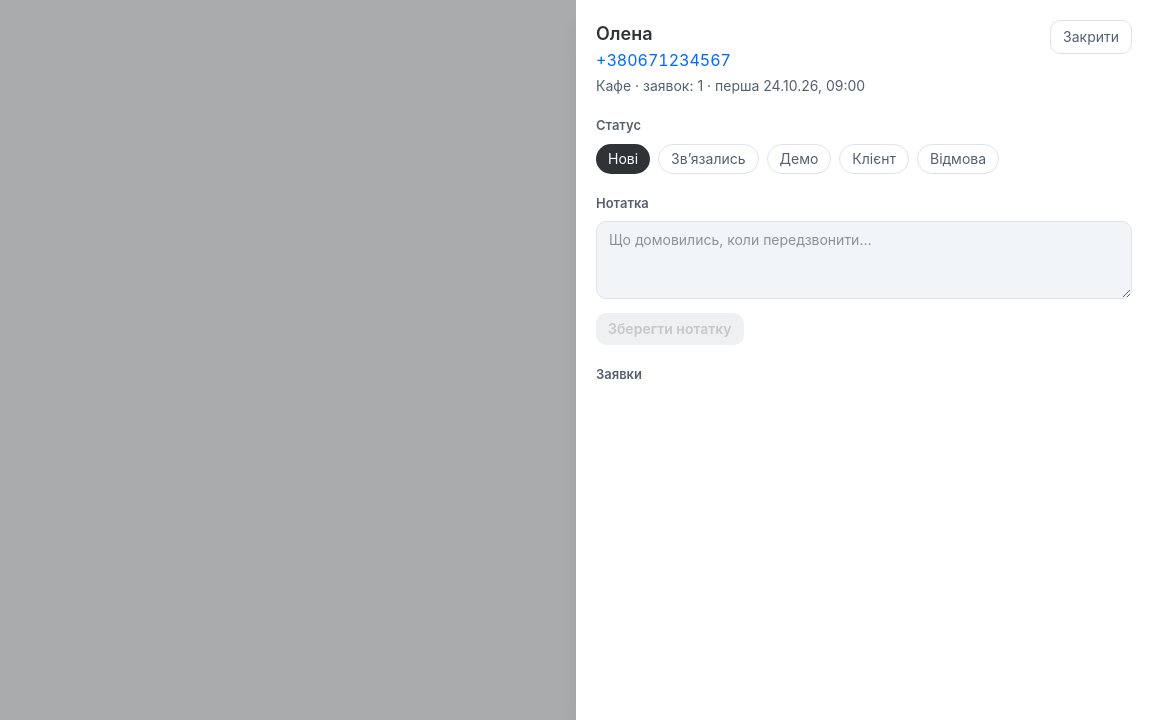
LeadCard › keeps the note being typed when a status change comes back
The image size is (1152, 720).
Click the button "Зв’язались" at (708, 158), box [658, 144, 758, 174]
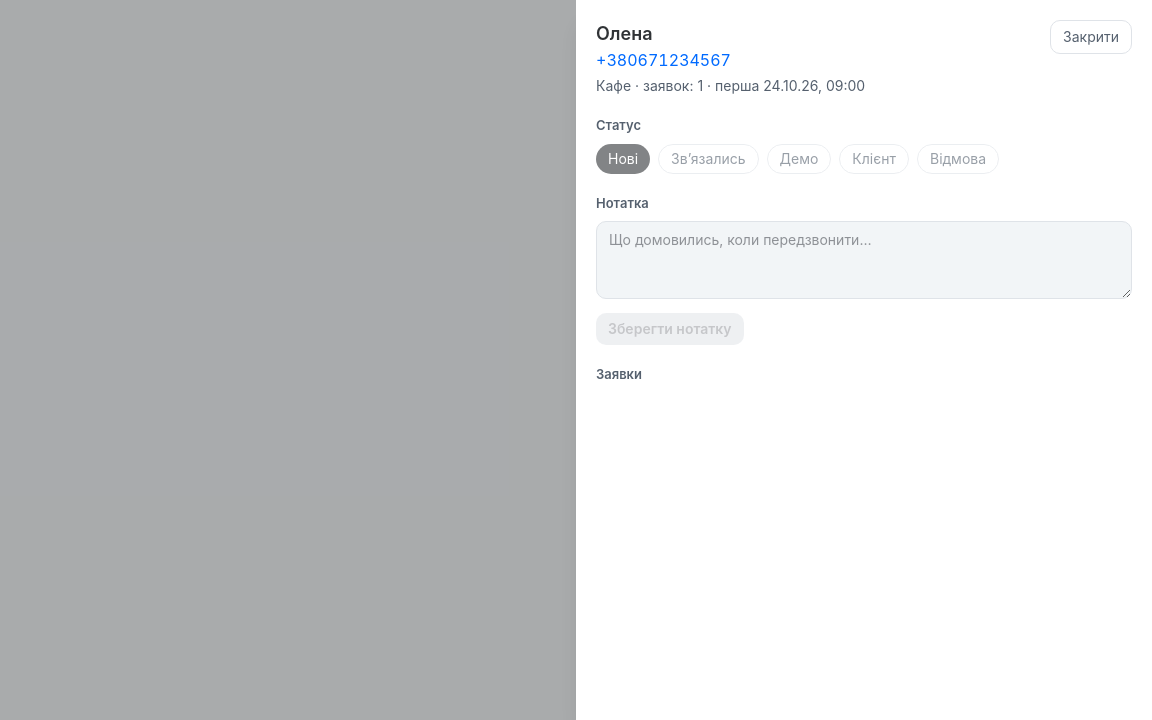
Type "Передзвонити в понеділок" into the text box named "Нотатка" at (864, 260), box [596, 221, 1132, 299]
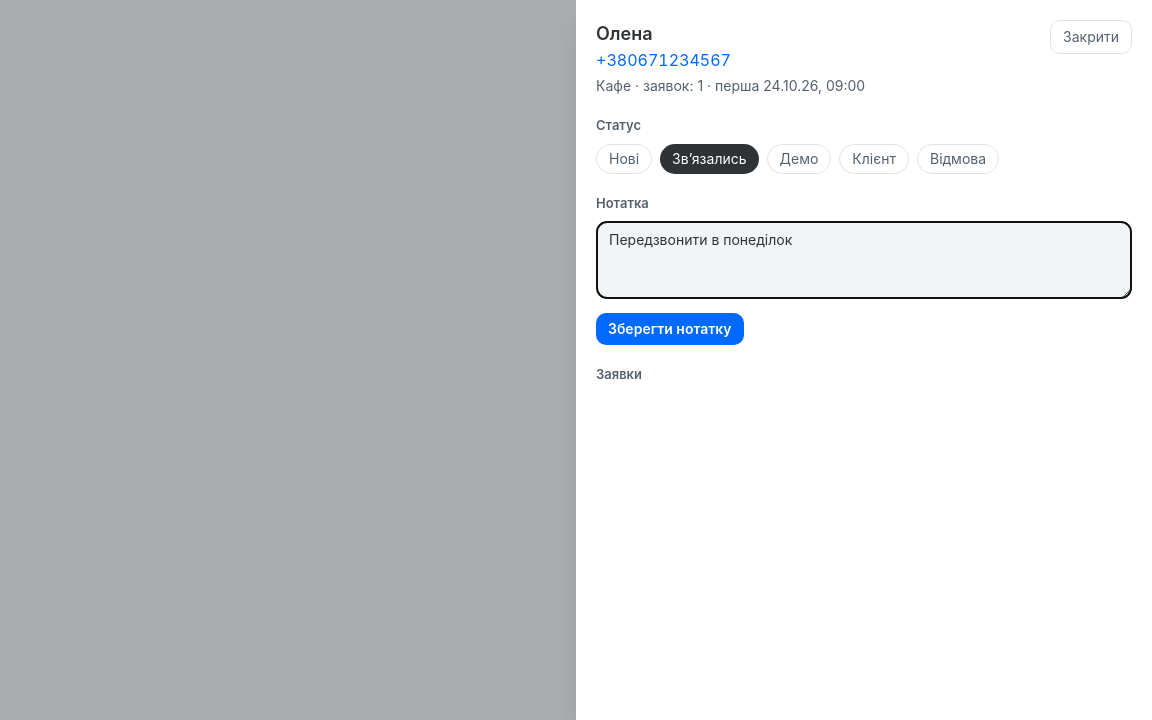
Click the button "Зберегти нотатку" at (670, 329), box [596, 313, 744, 345]
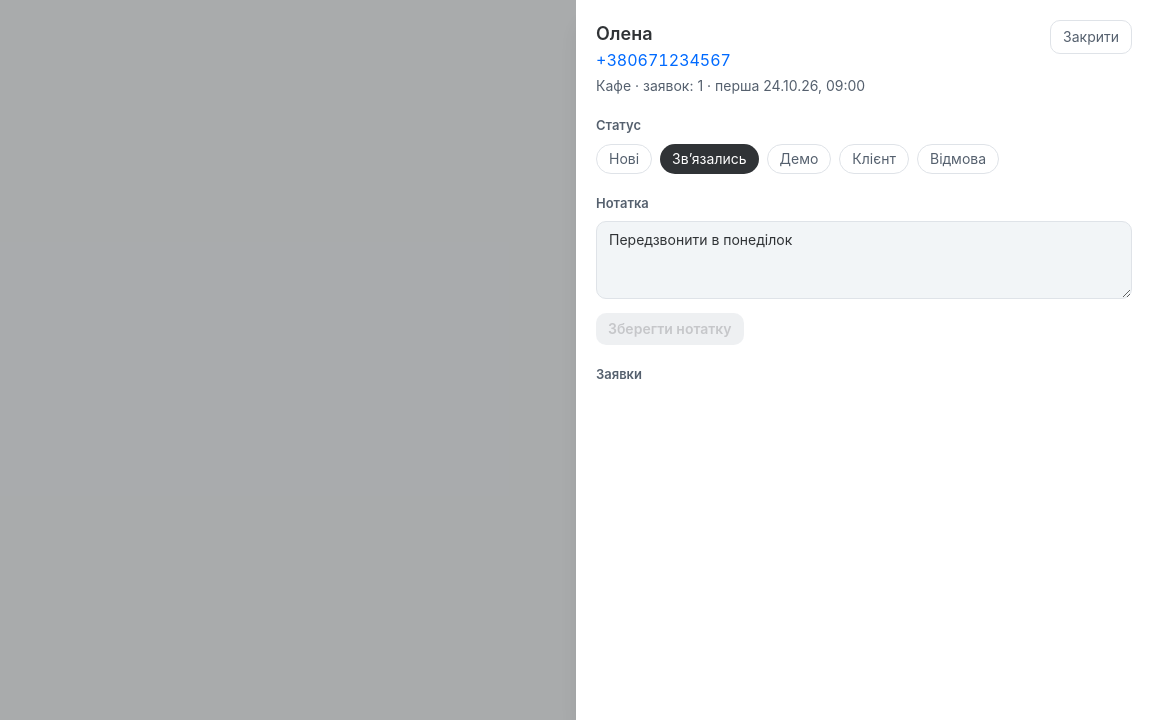
Expected: the button "Зберегти нотатку" is disabled, [596, 313, 744, 345]
